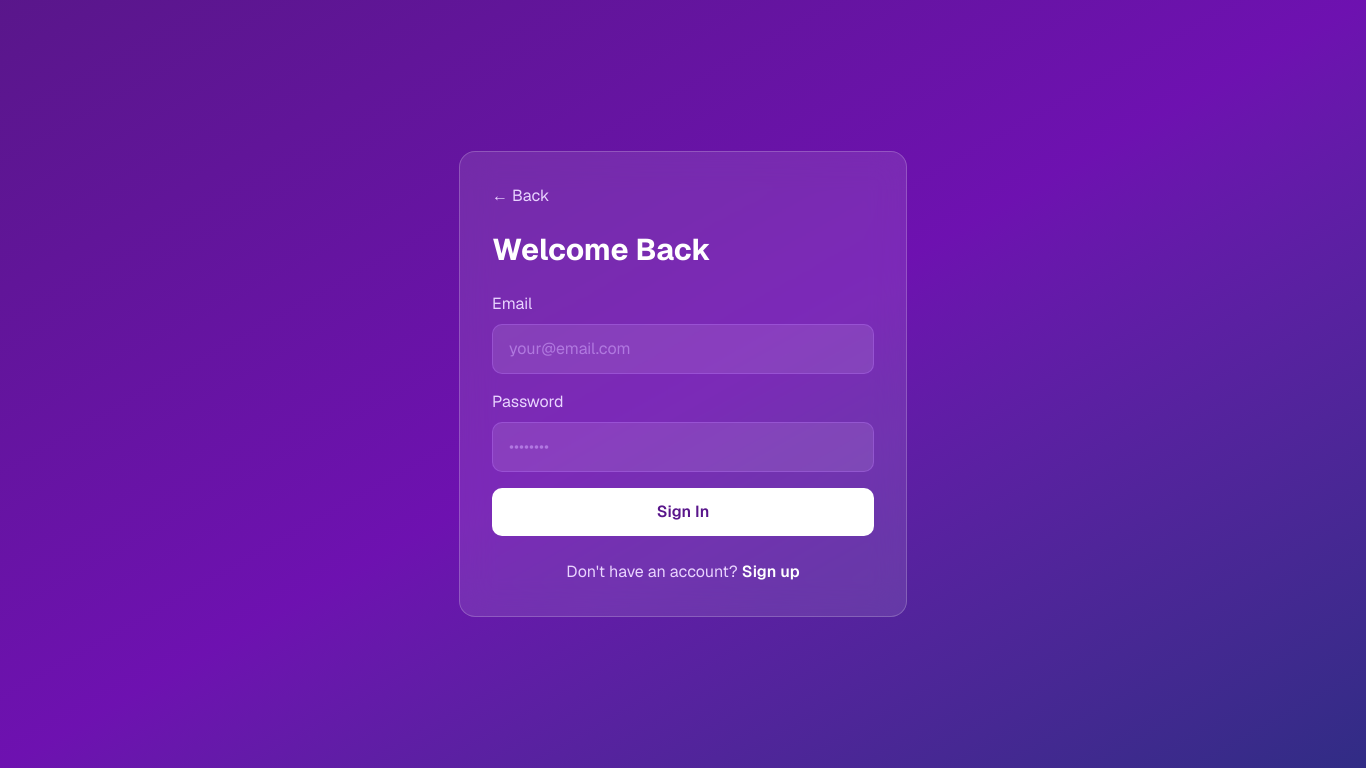
Test: LoginPage › shows a friendly error for invalid credentials
Type "user@example.com" into the field labelled "Email" at (683, 349), box [492,324,874,374]
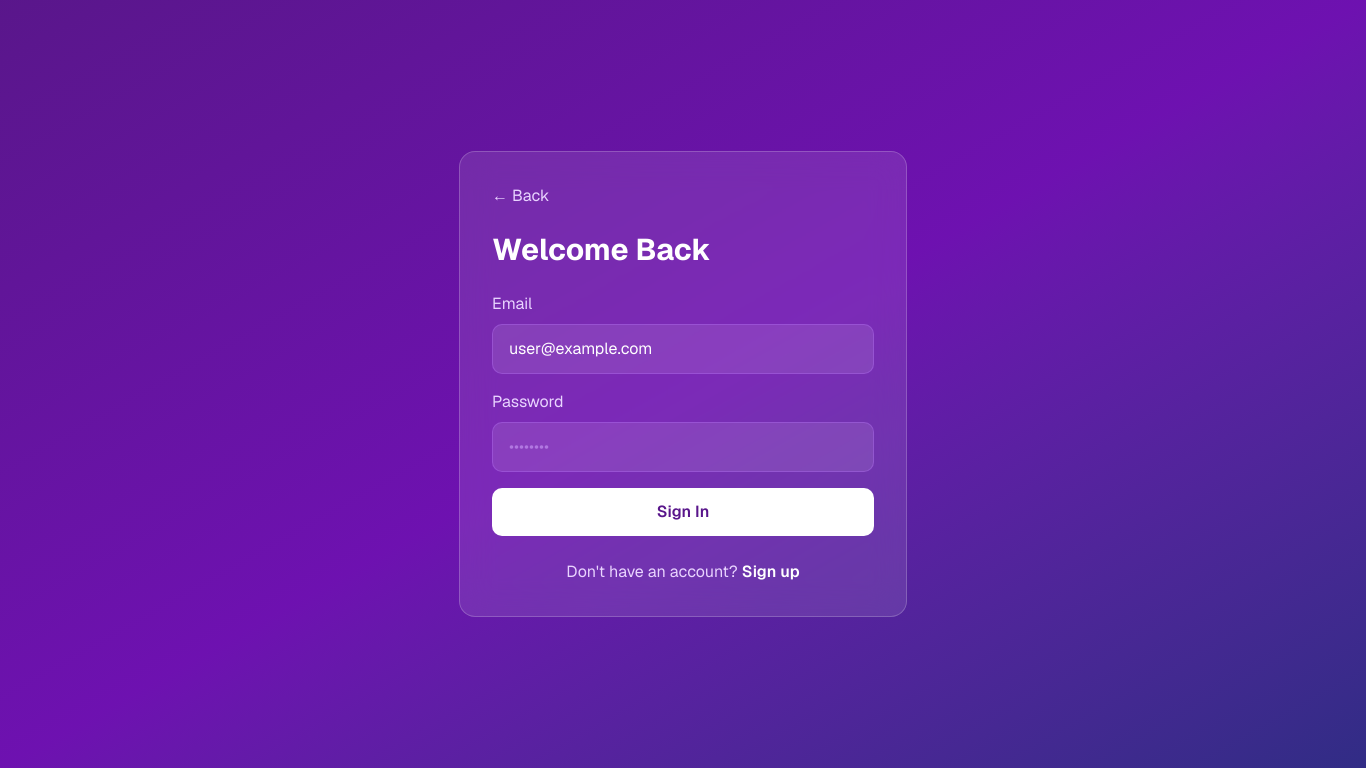
Type "wrongpass" into the password field labelled "Password" at (683, 447), box [492,422,874,472]
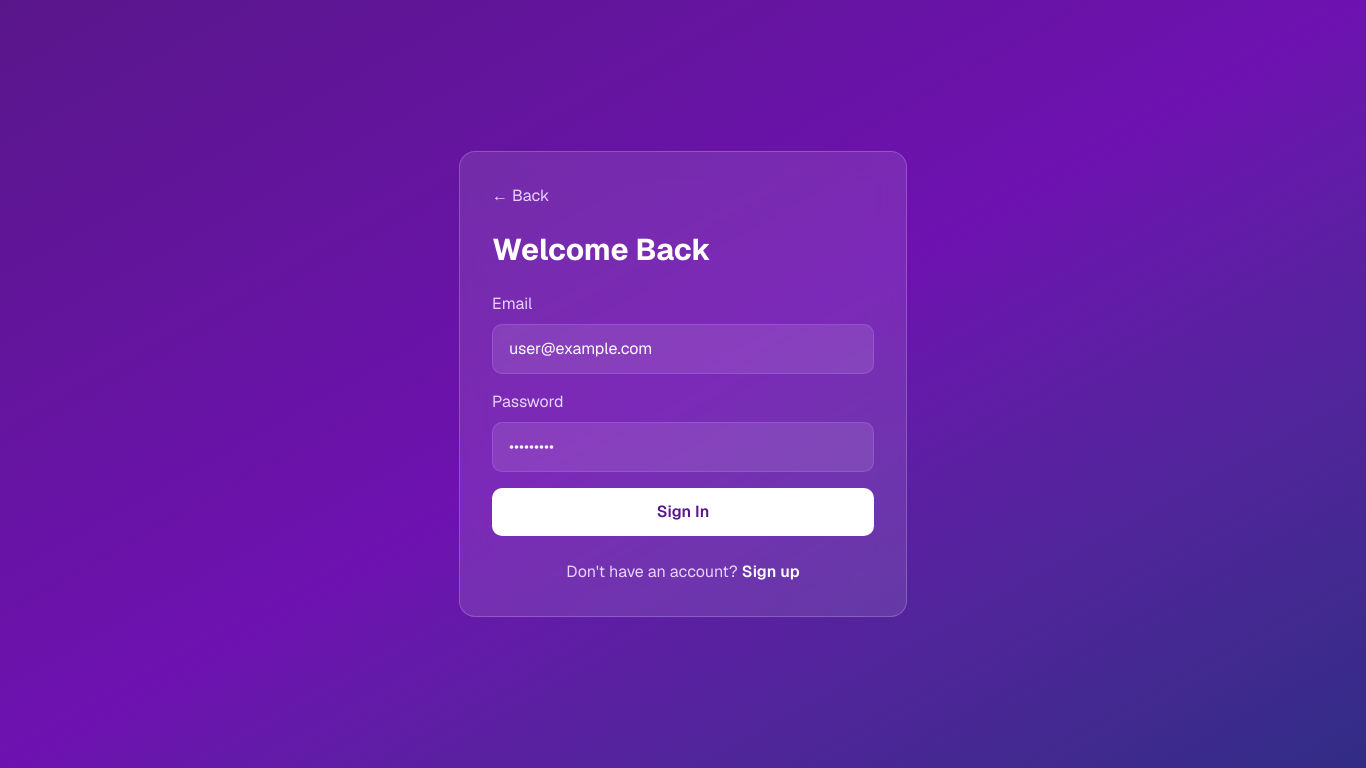
Click the button "Sign In" at (683, 512), box [492,488,874,536]
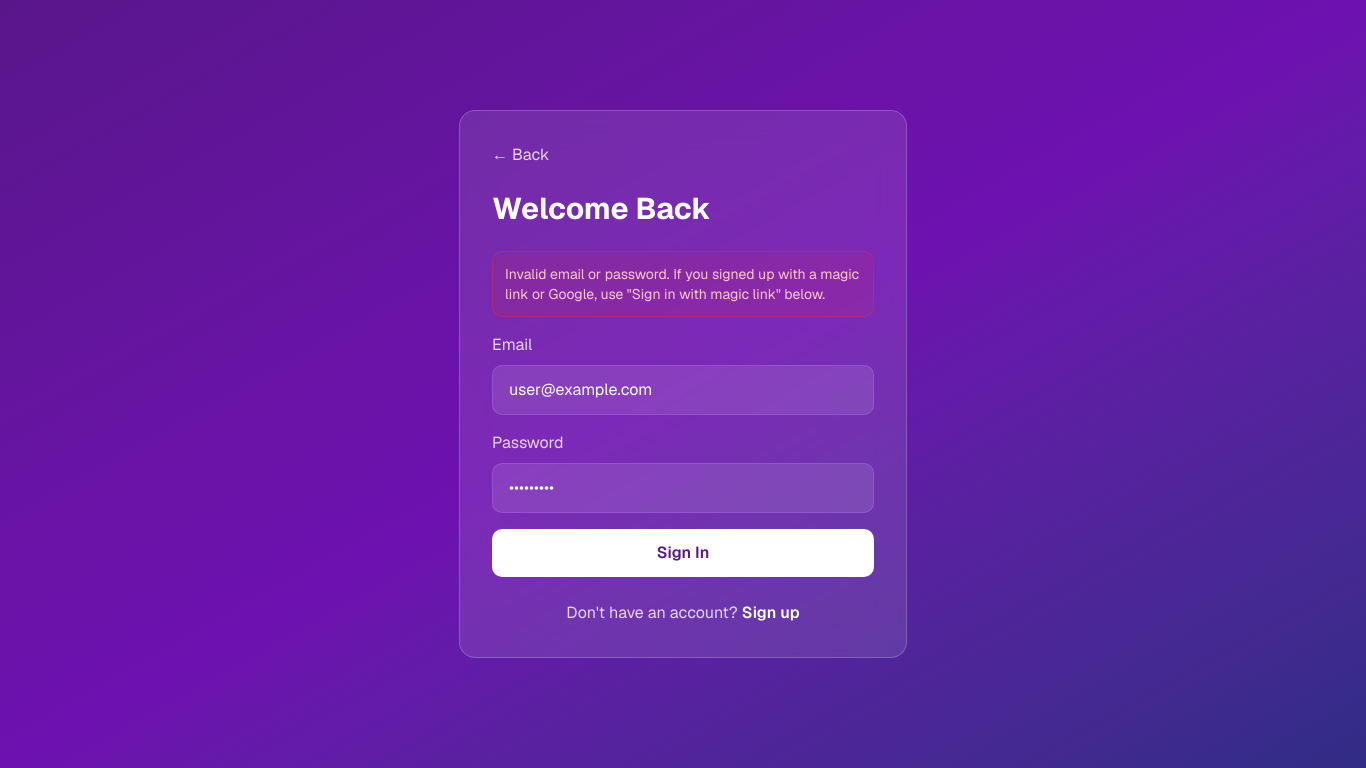
expect the text "Invalid email or password. If you signed up with a magic link or Google" is shown: met, box [505,265,859,303]
